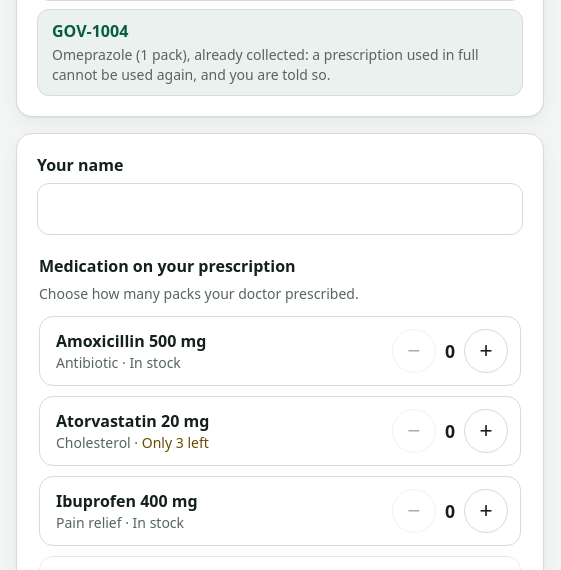
Test case: check-in by hand › shows what the backend says when it refuses, and lets the patient try again
(page scrolled)
expect the text "Amoxicillin 500 mg" is shown: met, box top-left (56, 330), bottom-right (206, 352)
In the field labelled "Your name": (280, 209) top-left (37, 183), bottom-right (523, 235), type "Maria"
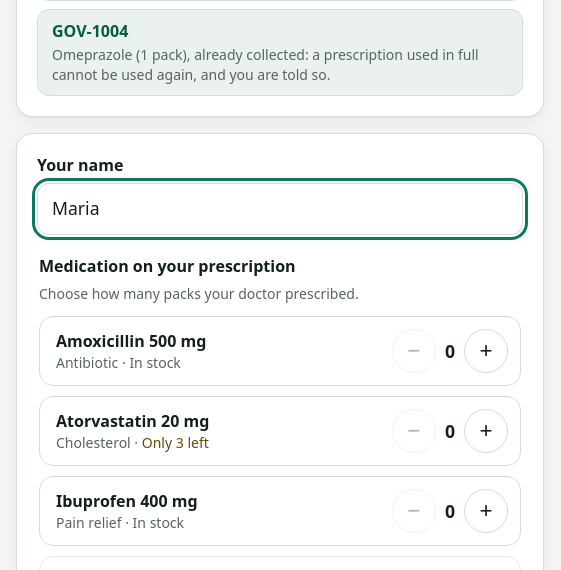
Click the button "+" in the row of "Ibuprofen 400 mg": (486, 511) top-left (464, 489), bottom-right (508, 533)
(page scrolled)
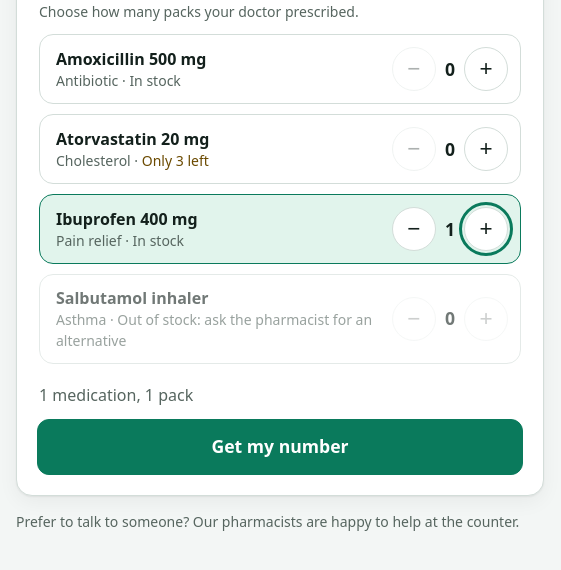
Click the button "Get my number": (280, 447) top-left (37, 419), bottom-right (523, 475)
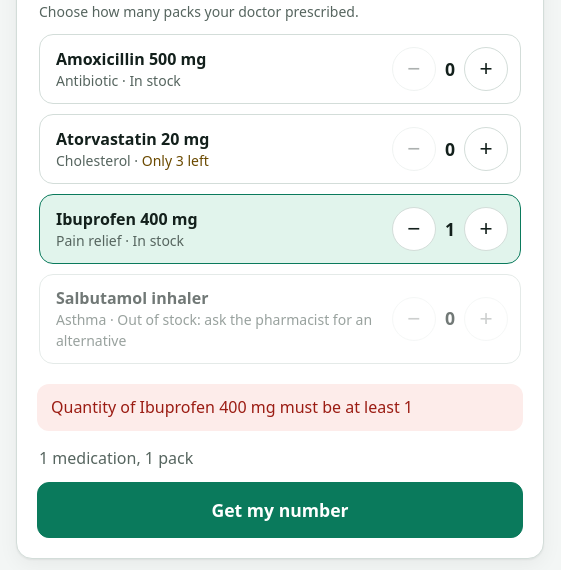
expect the button "Get my number" is enabled: met, box top-left (37, 482), bottom-right (523, 538)
expect the message reads "Quantity of Ibuprofen 400 mg must be at least 1": met, box top-left (51, 396), bottom-right (413, 418)
